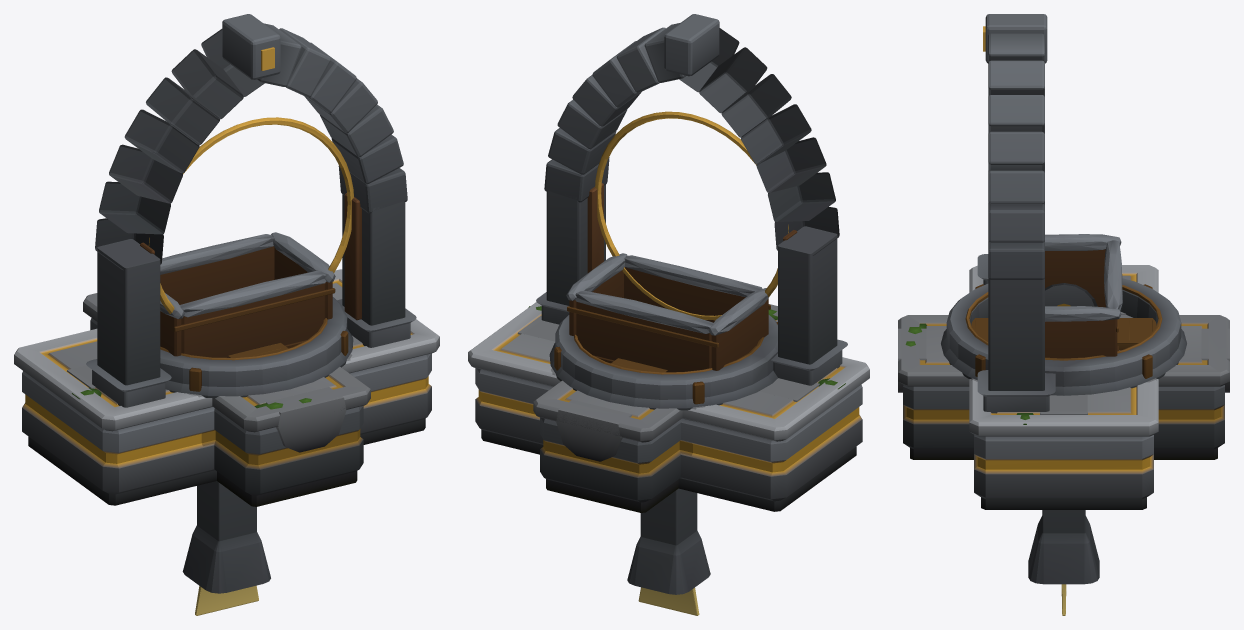
Rendered from temple-2-DaQbbojm.glb.
The picture shows the model from 3 angles, left to right: view 1: azimuth 30°, elevation 25°; view 2: azimuth 150°, elevation 25°; view 3: azimuth 270°, elevation 25°; orthographic projection. The views are drawn at different scales.
Visible parts, largest first — view 1: portal_#0, block_16x2x8#0, hopper_6x3#0, block_6x2x14#0, geyserVent_8#0, support_0_square#0, beam_3x2x14#0, blade_3x12x1#0; view 2: portal_#0, block_16x2x8#0, hopper_6x3#0, block_6x2x14#0, geyserVent_8#0, support_0_square#0, beam_3x2x14#0, beam_14x1.5x2#0, blade_3x12x1#0; view 3: portal_#0, block_16x2x8#0, block_6x2x14#0, geyserVent_8#0, hopper_6x3#0, support_0_square#0, burner_2x1.2x8#0, boulder_6x3#0, beam_3x2x14#0, beam_14x1.5x2#0.
Boxes of the visible parts, x1=… form: portal_#0: x1=86, y1=14, x2=416, y2=407; block_16x2x8#0: x1=14, y1=269, x2=439, y2=505; hopper_6x3#0: x1=160, y1=232, x2=335, y2=357; block_6x2x14#0: x1=83, y1=293, x2=370, y2=506; geyserVent_8#0: x1=160, y1=297, x2=353, y2=398; support_0_square#0: x1=182, y1=481, x2=270, y2=593; beam_3x2x14#0: x1=266, y1=387, x2=346, y2=452; blade_3x12x1#0: x1=195, y1=585, x2=258, y2=615; portal_#0: x1=536, y1=14, x2=847, y2=385; block_16x2x8#0: x1=468, y1=302, x2=869, y2=511; hopper_6x3#0: x1=566, y1=253, x2=770, y2=372; block_6x2x14#0: x1=533, y1=306, x2=777, y2=512; geyserVent_8#0: x1=549, y1=314, x2=777, y2=410; support_0_square#0: x1=627, y1=488, x2=710, y2=594; beam_3x2x14#0: x1=556, y1=304, x2=777, y2=461; beam_14x1.5x2#0: x1=517, y1=316, x2=819, y2=401; blade_3x12x1#0: x1=638, y1=587, x2=699, y2=615; portal_#0: x1=977, y1=14, x2=1055, y2=413; block_16x2x8#0: x1=969, y1=265, x2=1158, y2=509; block_6x2x14#0: x1=898, y1=315, x2=1229, y2=459; geyserVent_8#0: x1=941, y1=278, x2=1186, y2=395; hopper_6x3#0: x1=1045, y1=234, x2=1122, y2=358; support_0_square#0: x1=1028, y1=510, x2=1099, y2=584; burner_2x1.2x8#0: x1=971, y1=318, x2=1156, y2=350; boulder_6x3#0: x1=1045, y1=283, x2=1097, y2=306; beam_3x2x14#0: x1=898, y1=328, x2=1229, y2=392; beam_14x1.5x2#0: x1=1040, y1=394, x2=1087, y2=414.
Size of the model in its own units: 16 by 27.09 by 14.
